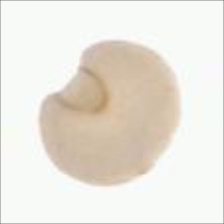L5: (51, 65, 111, 117)
L6: (36, 38, 182, 188)
